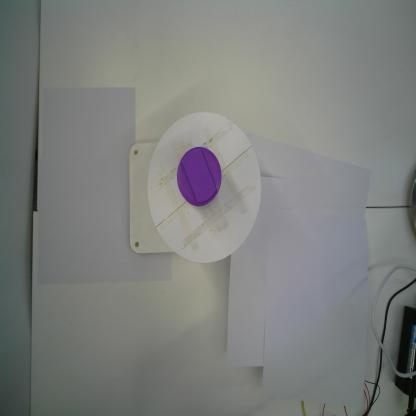Canned Food: (176, 146, 224, 209)
